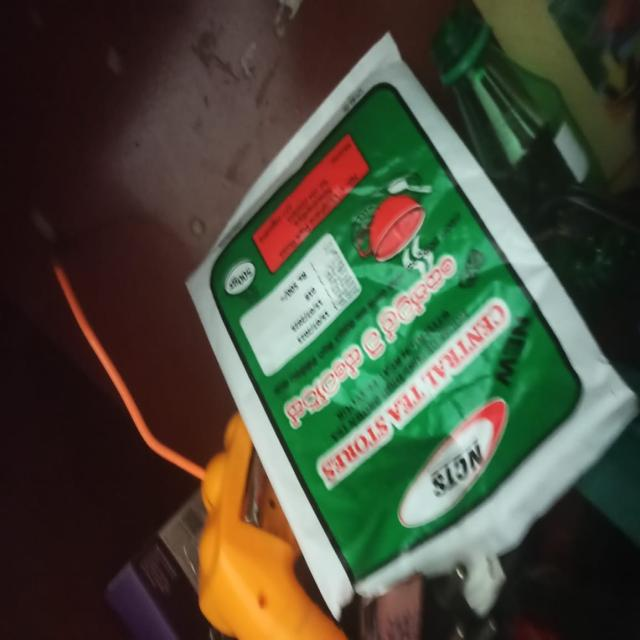Central Tea: (184, 118, 566, 640)
